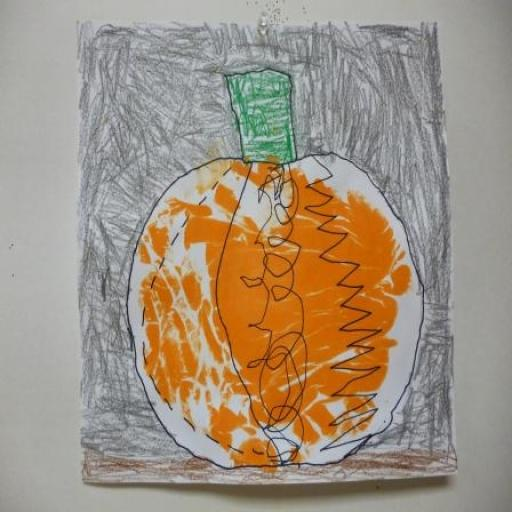paper: (57, 6, 486, 494)
